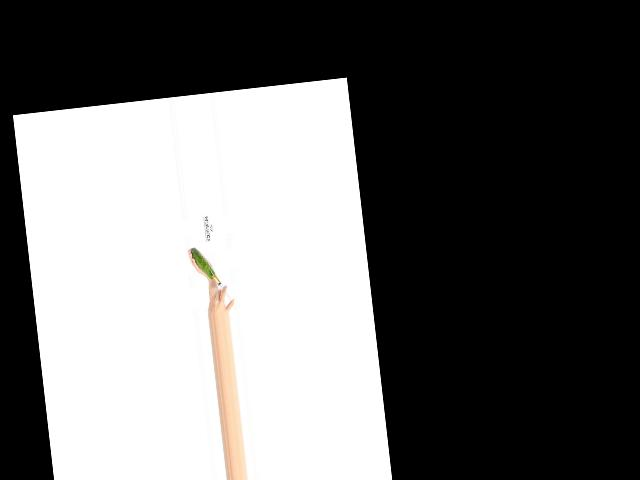cucumber: (190, 246, 215, 281)
